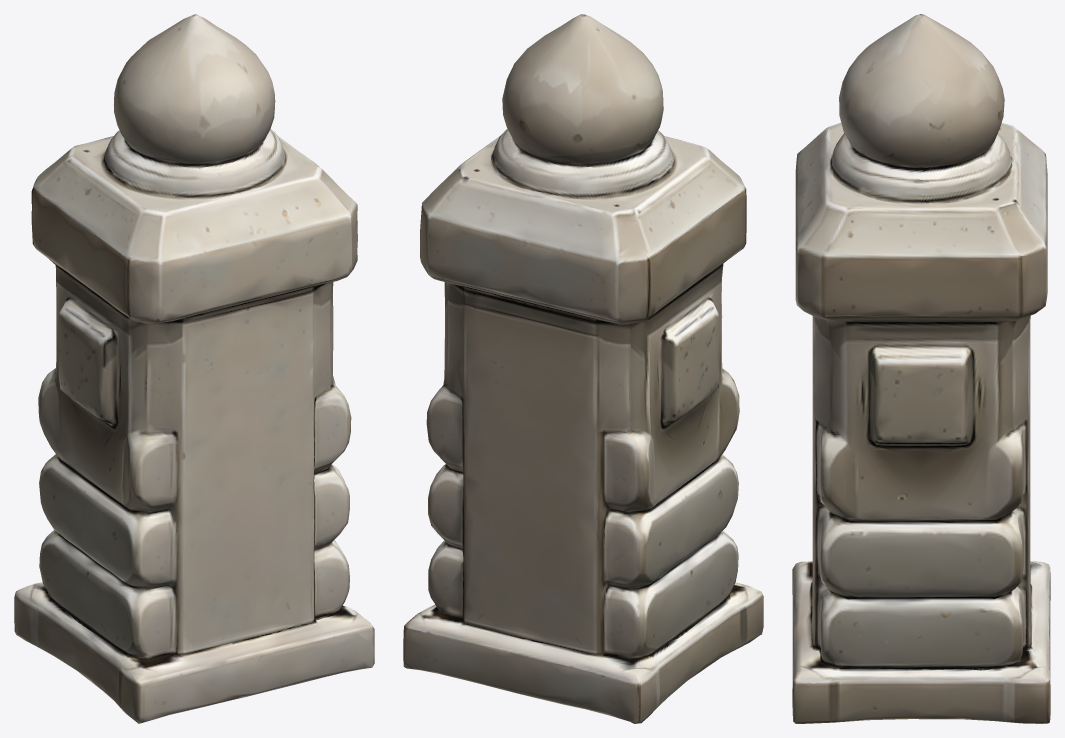
The model's file is 7_LongPost.glb.
The picture shows the model from 3 angles, left to right: view 1: azimuth 30°, elevation 25°; view 2: azimuth 150°, elevation 25°; view 3: azimuth 270°, elevation 25°; orthographic projection. The views are drawn at different scales.
Parts seen in each view (by area): view 1: input; view 2: input; view 3: input.
Boxes of the visible parts, x1=… form: input: x1=14, y1=14, x2=374, y2=723; input: x1=403, y1=14, x2=763, y2=723; input: x1=792, y1=14, x2=1050, y2=723.
Bounding box in the file's own units: 0.393 × 0.9994 × 0.3587.
1 material, 1 textured.
